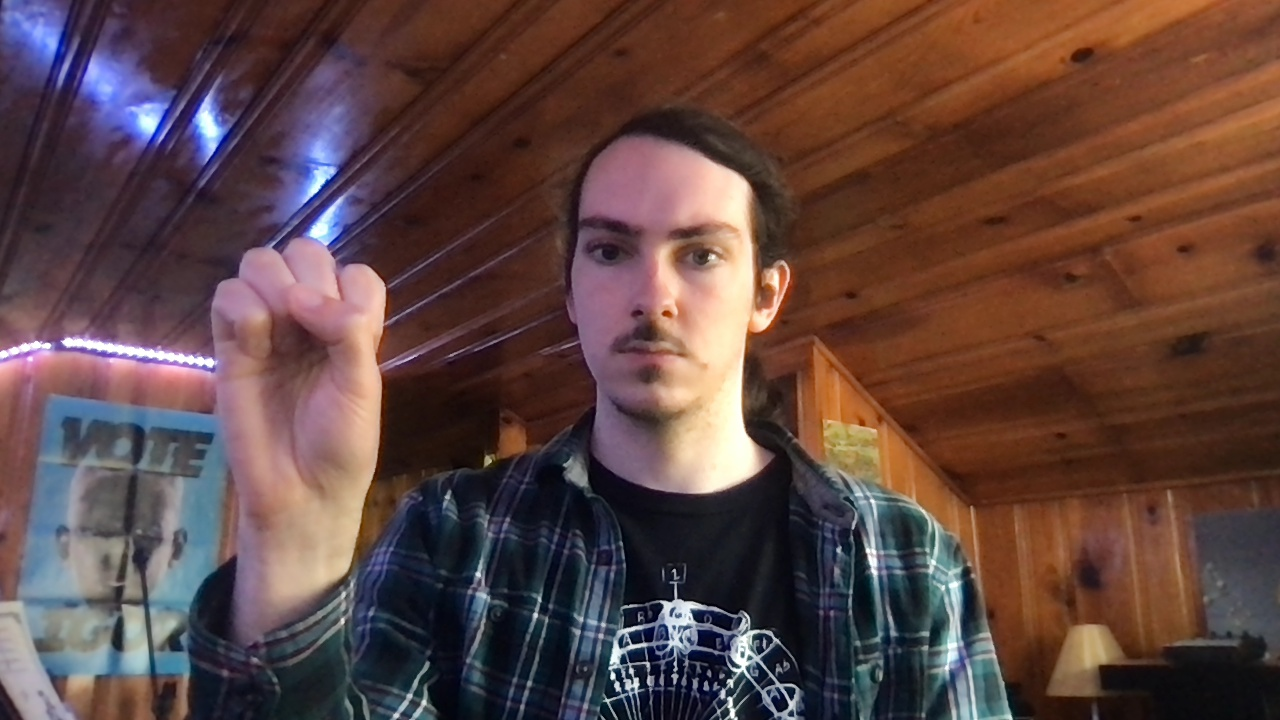s: (208, 237, 387, 520)
